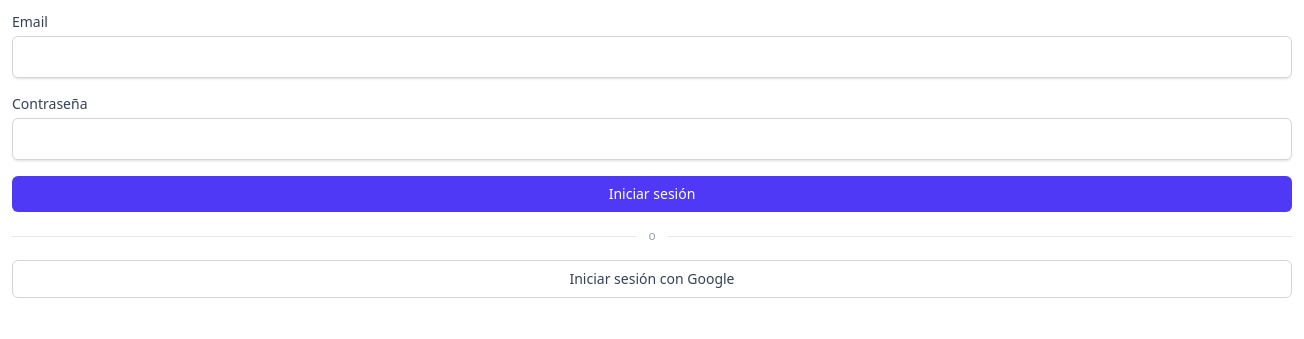
Test case: LoginForm › marca error cuando el email tiene formato inválido
The image size is (1304, 339).
Type "no-es-un-email" into the field labelled "Email".
click(652, 57); type("no-es-un-email")  # box [12,36,1292,78]
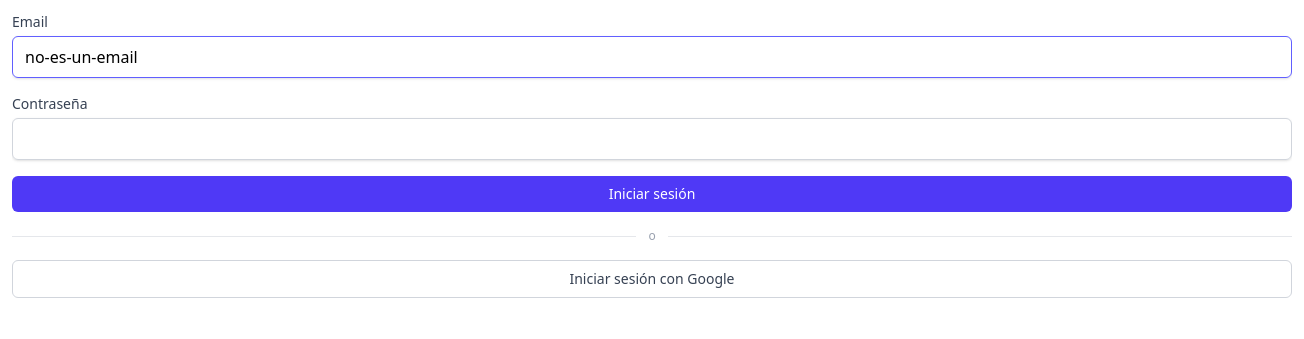
Type "secreta123" into the password field labelled "Contraseña".
click(652, 139); type("secreta123")  # box [12,118,1292,160]
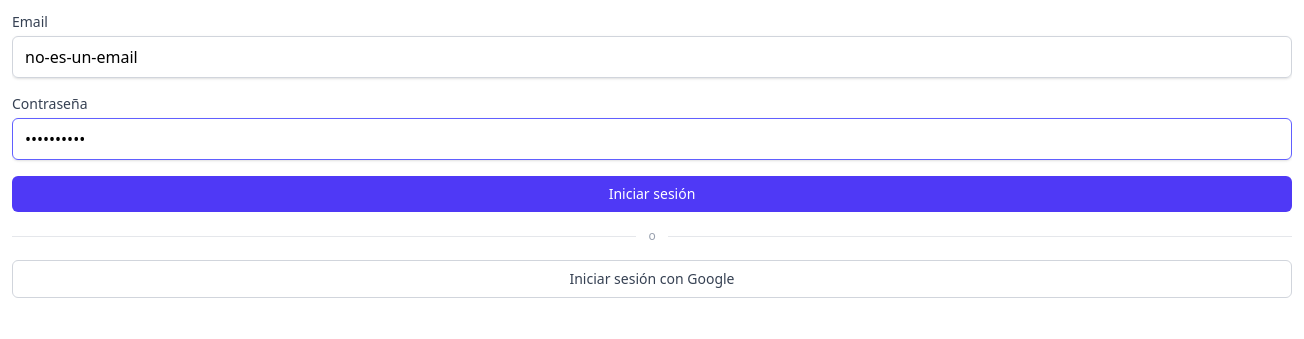
Click the button "Iniciar sesión".
click(652, 194)  # box [12,176,1292,212]
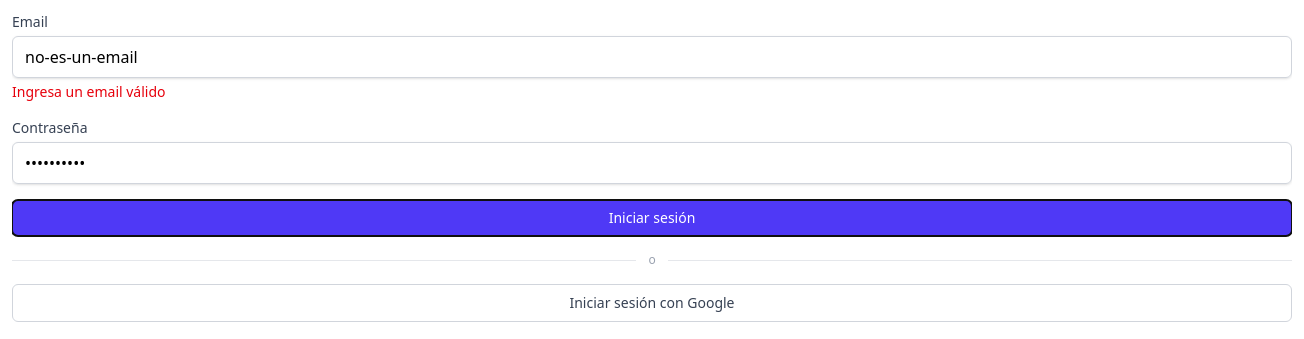
Check: the text "Ingresa un email válido" is shown, box [12,82,166,101]
